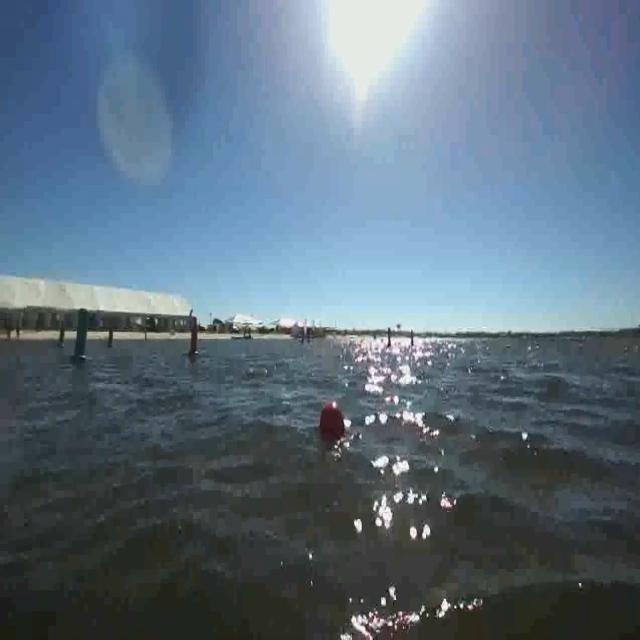green-column-buoy: (70, 308, 92, 364), (58, 323, 69, 350)
red-buoy: (318, 397, 348, 445)
red-column-buoy: (186, 318, 200, 360), (107, 327, 116, 349)
